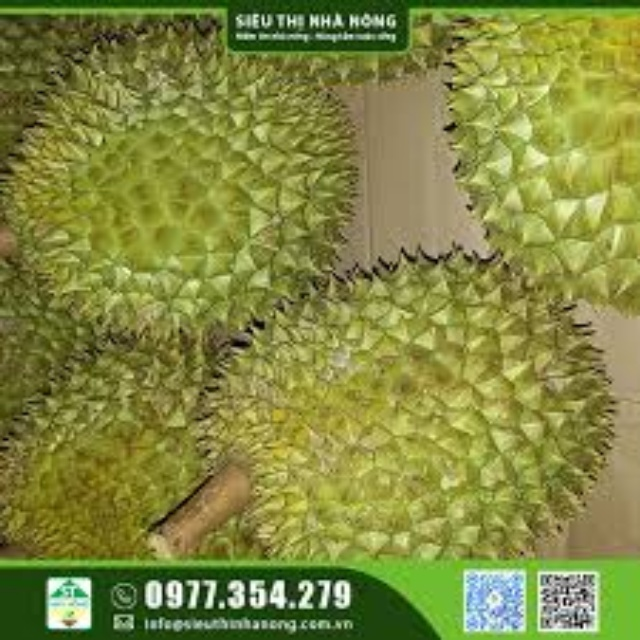sau_rieng: (193, 248, 607, 562), (4, 53, 363, 330)
